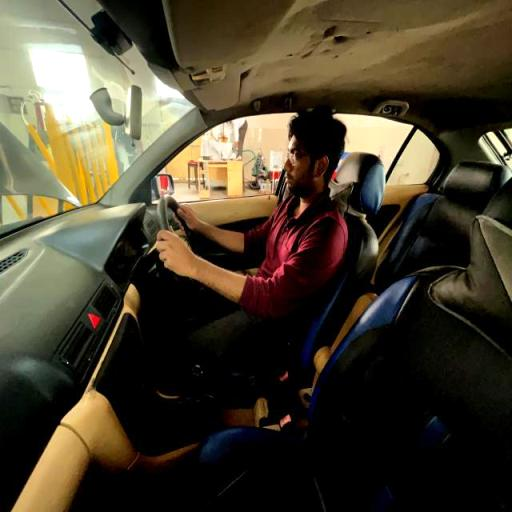Normal: (132, 110, 351, 356)
